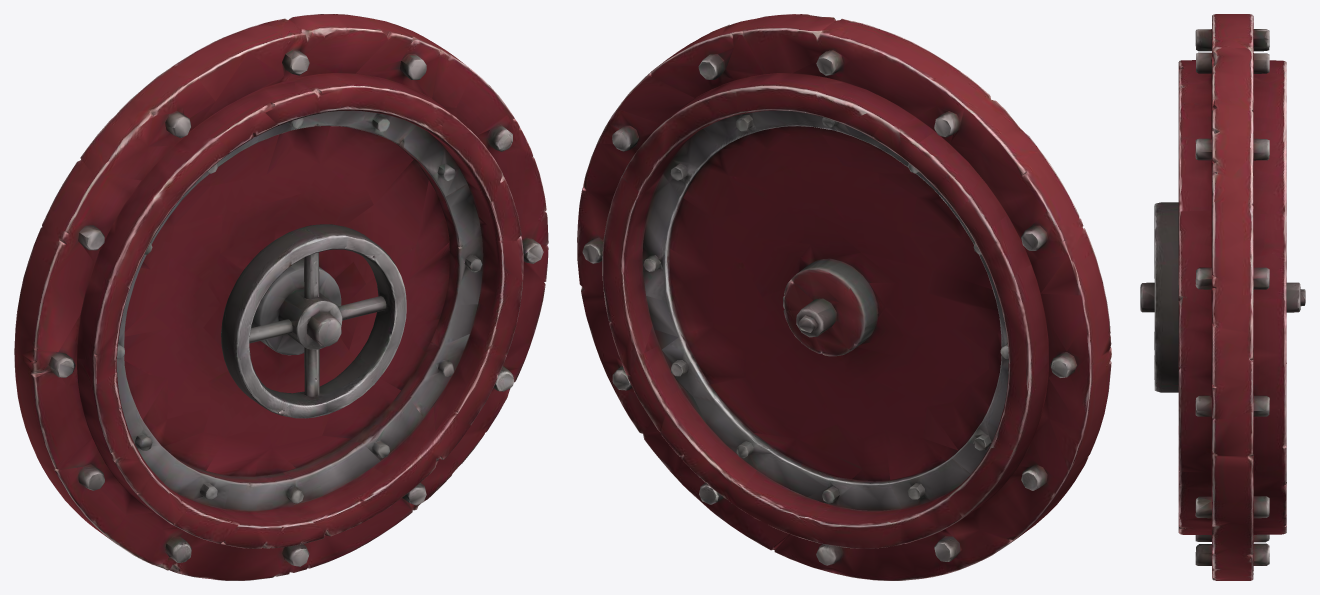
Rendered from decor_vault_door_round_idle.glb.
3 views of the same model, side by side, from view 1: azimuth 30°, elevation 25°; view 2: azimuth 150°, elevation 25°; view 3: azimuth 270°, elevation 25° (orthographic). The views are drawn at different scales.
Visible parts, largest first — view 1: tripo_node_6022ee3a-7654-4981-b8d4-d9f08fc24435; view 2: tripo_node_6022ee3a-7654-4981-b8d4-d9f08fc24435; view 3: tripo_node_6022ee3a-7654-4981-b8d4-d9f08fc24435.
Boxes of the visible parts, x1,y1,x2,y2 form: tripo_node_6022ee3a-7654-4981-b8d4-d9f08fc24435: (14,14,548,580); tripo_node_6022ee3a-7654-4981-b8d4-d9f08fc24435: (577,14,1111,580); tripo_node_6022ee3a-7654-4981-b8d4-d9f08fc24435: (1140,14,1305,580).
Bounding box in the file's own units: 1.5 × 1.5 × 0.4357.
1 material, 1 textured.
